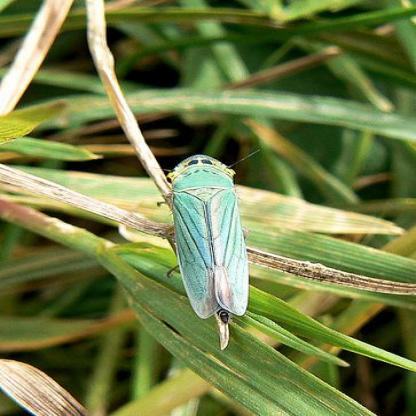Green-Leafhopper: (144, 151, 278, 358)
